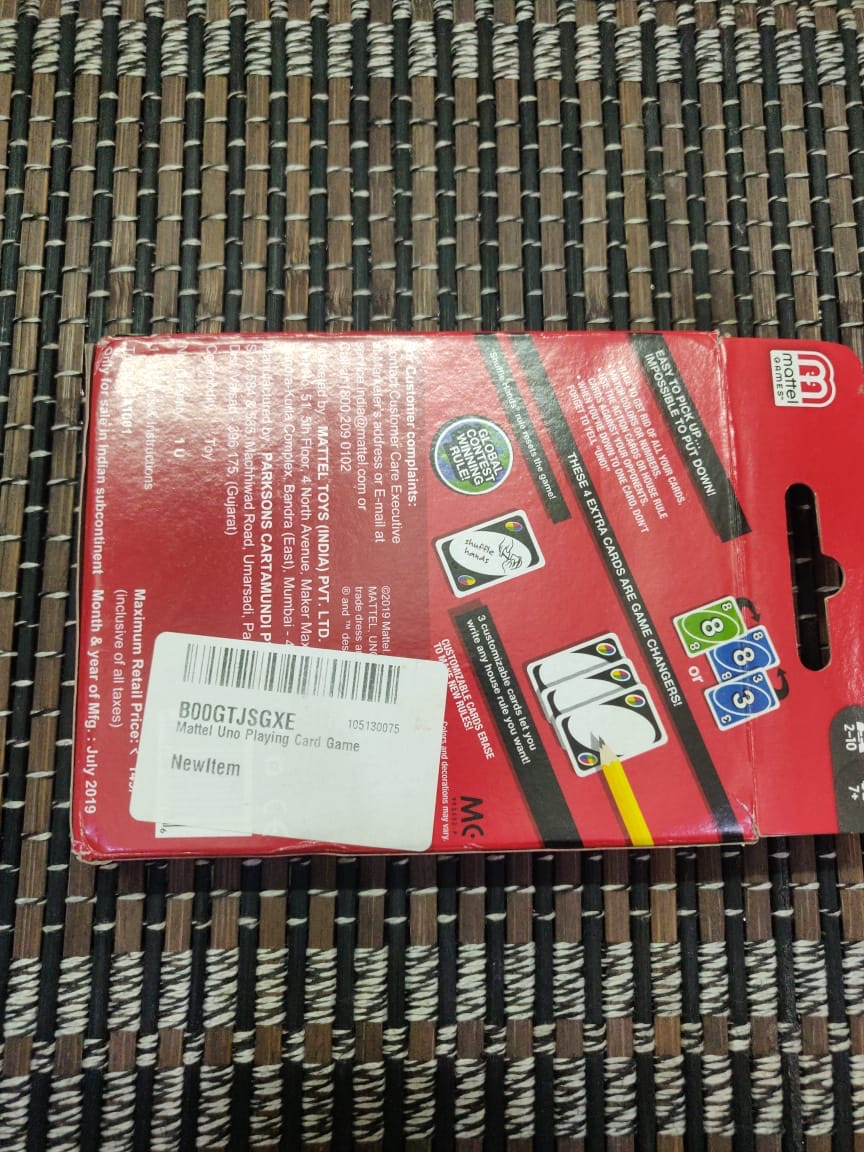barcode: (151, 625, 446, 720)
